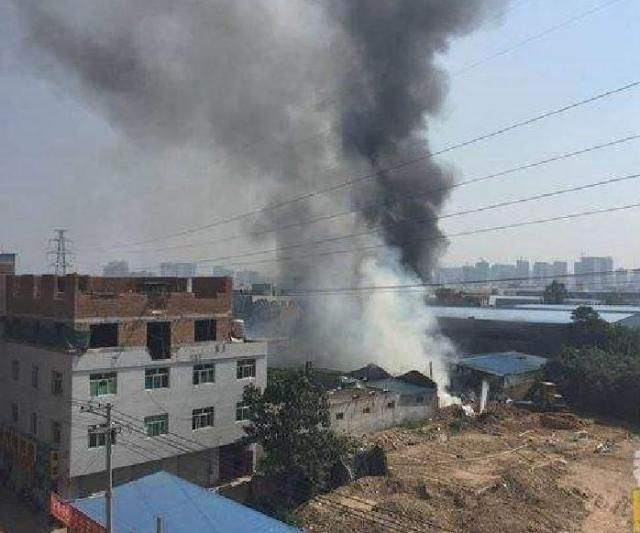smoke: (8, 0, 482, 143), (240, 140, 450, 266), (284, 264, 462, 375)
